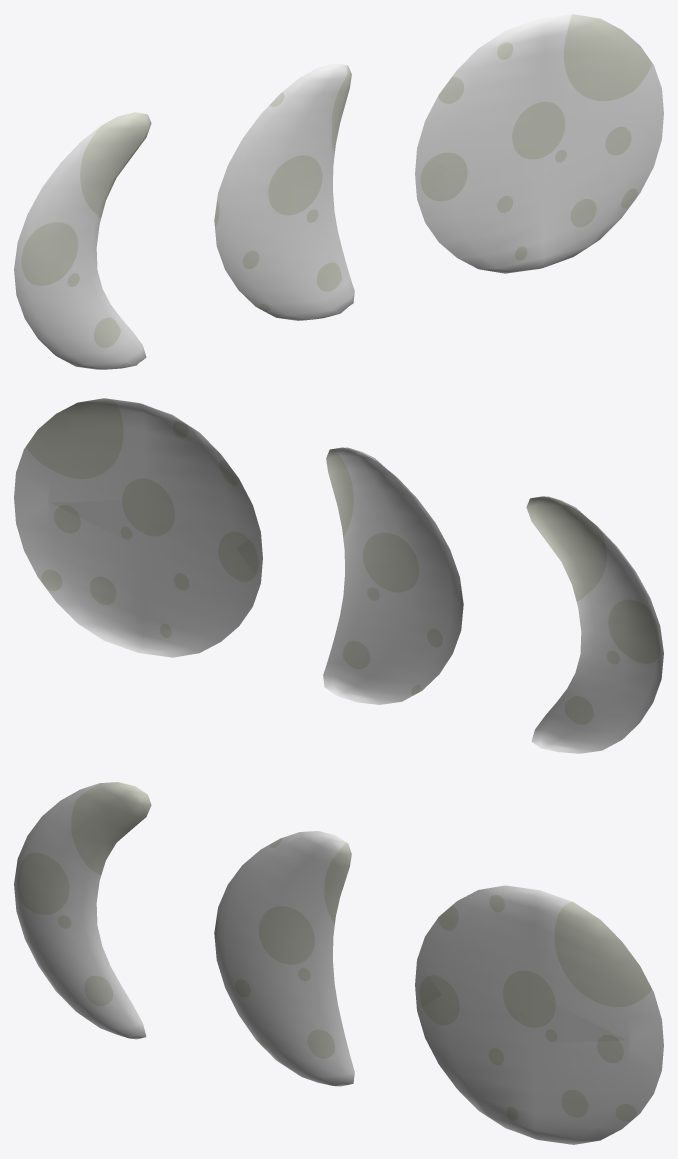
The model's file is Moons (1).FBX.
The picture shows the model from 3 angles, top to bottom: view 1: azimuth 30°, elevation 25°; view 2: azimuth 150°, elevation 25°; view 3: azimuth 330°, elevation 25°; orthographic projection.
Visible parts, largest first — view 1: Cylinder007, Cylinder006, Cylinder005; view 2: Cylinder007, Cylinder006, Cylinder005; view 3: Cylinder007, Cylinder006, Cylinder005.
Part boxes in pixels (bbox=[...]): Cylinder007: bbox=[415, 14, 663, 273]; Cylinder006: bbox=[214, 63, 354, 320]; Cylinder005: bbox=[14, 112, 151, 369]; Cylinder007: bbox=[14, 398, 262, 657]; Cylinder006: bbox=[323, 447, 463, 704]; Cylinder005: bbox=[526, 496, 663, 753]; Cylinder007: bbox=[415, 885, 663, 1144]; Cylinder006: bbox=[214, 831, 354, 1086]; Cylinder005: bbox=[14, 782, 151, 1039].
Bounding box in the file's own units: 2986 × 1121 × 39.81.
1 material, 1 textured.
